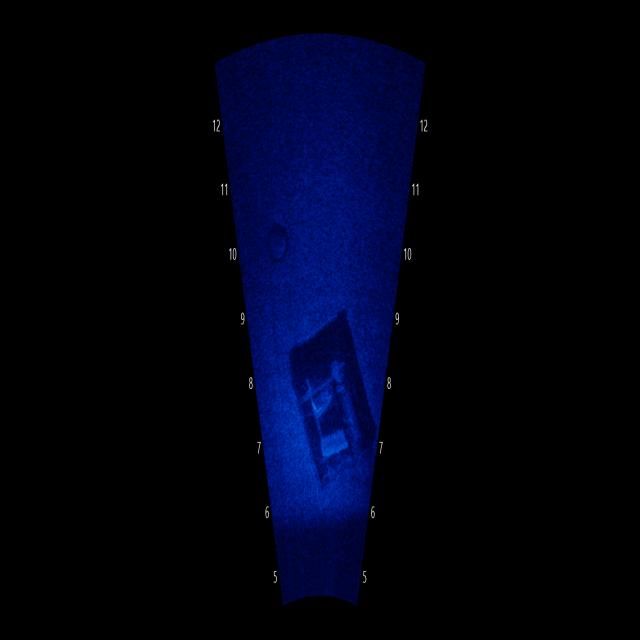square: (282, 290, 379, 502)
